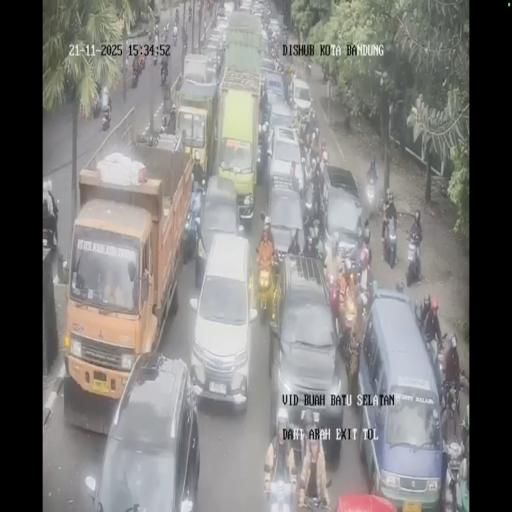3: (173, 62, 218, 180), (220, 8, 264, 79)
car: (356, 286, 444, 505), (89, 351, 200, 508), (270, 255, 344, 454), (196, 172, 242, 280), (320, 167, 364, 260), (264, 184, 306, 272), (266, 126, 304, 196), (290, 77, 312, 121), (262, 70, 287, 108), (204, 41, 222, 77), (214, 16, 230, 39), (260, 54, 276, 74), (267, 19, 281, 40), (223, 0, 235, 18), (260, 27, 268, 53), (252, 1, 264, 17), (239, 0, 252, 14)
truck: (423, 330, 445, 401), (405, 231, 423, 286), (381, 216, 397, 268), (303, 181, 318, 229), (364, 170, 378, 216), (162, 90, 174, 124), (101, 100, 111, 130), (90, 90, 100, 117), (160, 60, 168, 85), (268, 42, 279, 60), (131, 66, 139, 88), (322, 64, 330, 82), (206, 1, 214, 18), (262, 8, 270, 24), (152, 45, 158, 65), (182, 38, 188, 58), (162, 26, 169, 43), (306, 60, 312, 78), (172, 28, 178, 45), (140, 51, 146, 68), (153, 24, 159, 41), (174, 8, 179, 24), (198, 4, 202, 22), (188, 6, 192, 22), (148, 32, 152, 46)
